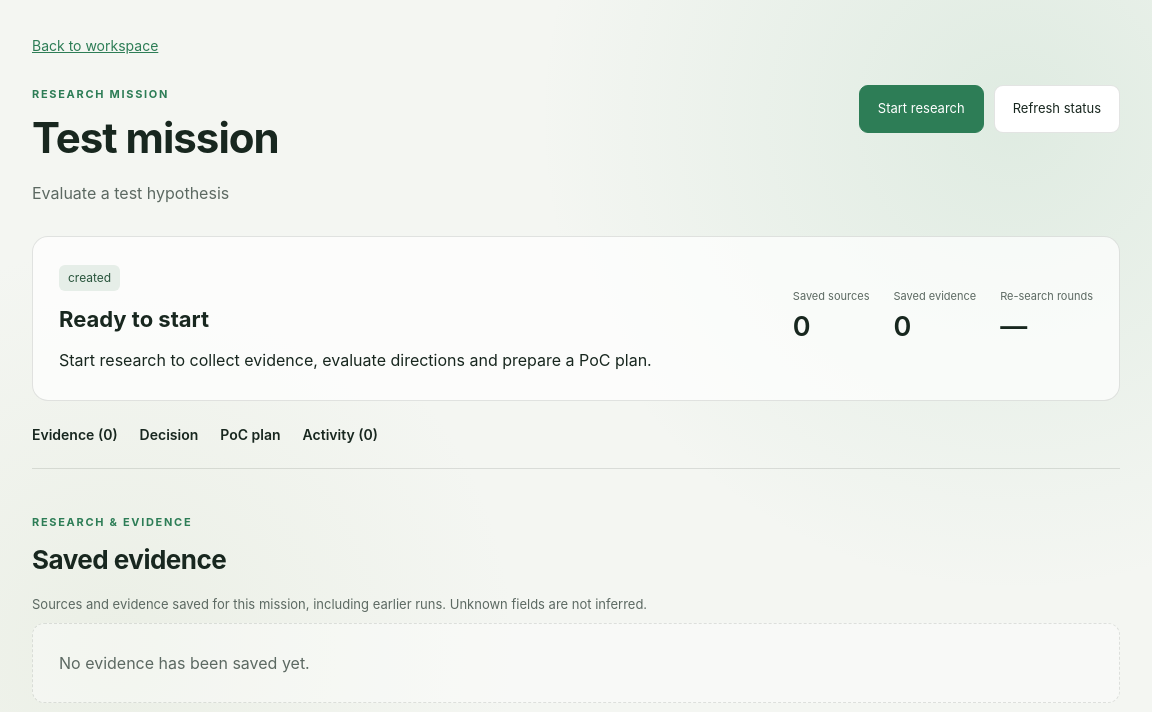
Test: starts a mission asynchronously and refreshes its outcome
Click the button "Start research". click: (921, 109)
box: x1=859 y1=85 x2=984 y2=132
(page scrolled)
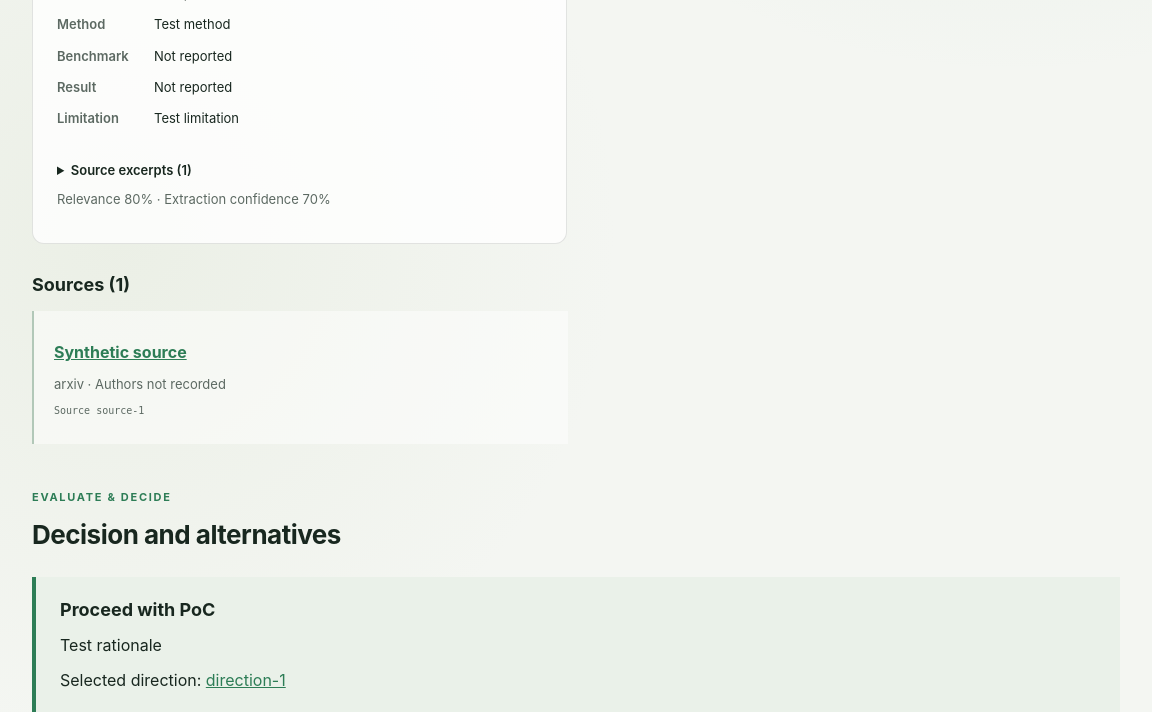
Result: the text "Test rationale" is shown at x1=60 y1=636 x2=162 y2=656
